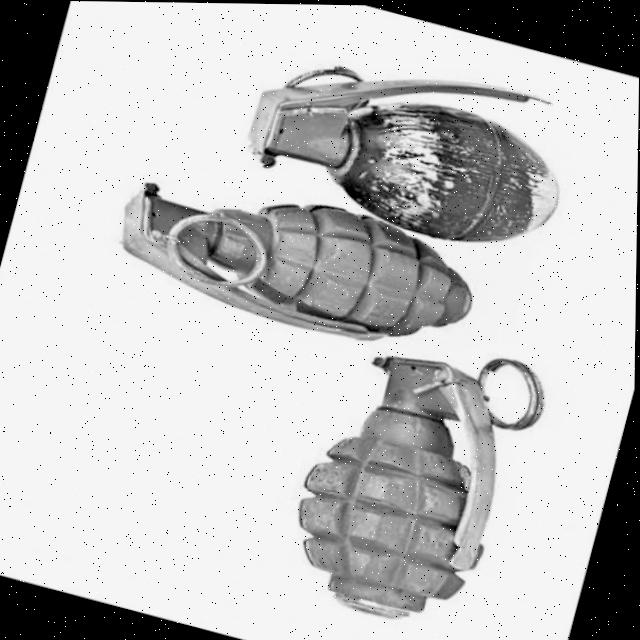grenade: (65, 1, 601, 374), (266, 327, 532, 640)
